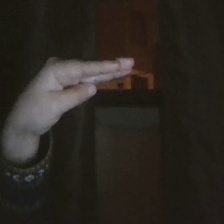H: (3, 51, 142, 145)
